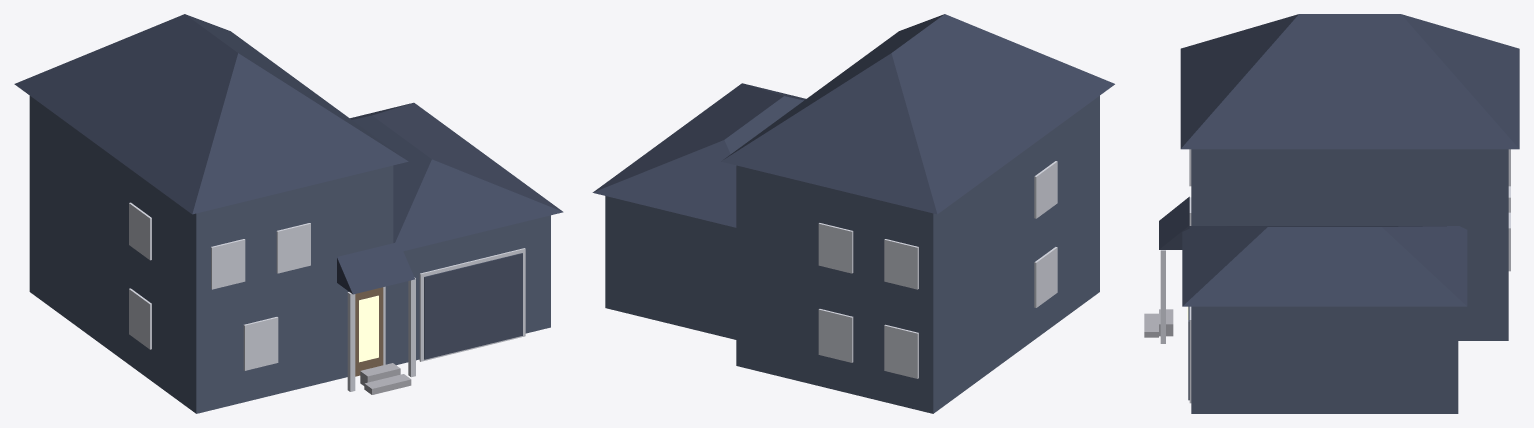
File: house-v2.glb
The picture shows the model from 3 angles, left to right: view 1: azimuth 30°, elevation 25°; view 2: azimuth 150°, elevation 25°; view 3: azimuth 270°, elevation 25°; orthographic projection. The views are drawn at different scales.
Visible parts, largest first — view 1: House_Walls, House_Roof, Garage_Roof, GarageDoor_Panel, Garage_Walls, Porch_Roof, Win_DL_Frame, Win_UL_Frame, Win_UR_Frame, GarageDoor_Frame, Door_Glass, Win_LeftD_Frame (+6 smaller); view 2: House_Walls, House_Roof, Garage_Walls, Garage_Roof, Win_BackDR_Frame, Win_BackDL_Frame, Win_BackUR_Frame, Win_BackUL_Frame, Win_LeftD_Frame, Win_LeftU_Frame; view 3: House_Roof, House_Walls, Garage_Walls, Garage_Roof, Porch_Roof, Porch_Post_R, Step_1.
Boxes of the visible parts, box(x1,y1,x2,y2) form: House_Walls: box(29, 96, 393, 413); House_Roof: box(14, 14, 408, 214); Garage_Roof: box(350, 102, 563, 251); GarageDoor_Panel: box(424, 253, 522, 359); Garage_Walls: box(393, 215, 550, 365); Porch_Roof: box(337, 242, 414, 294); Win_DL_Frame: box(243, 317, 278, 370); Win_UL_Frame: box(211, 239, 245, 289); Win_UR_Frame: box(276, 223, 310, 273); GarageDoor_Frame: box(419, 248, 525, 361); Door_Glass: box(359, 295, 378, 362); Win_LeftD_Frame: box(129, 288, 151, 349); House_Walls: box(736, 96, 1099, 413); House_Roof: box(721, 14, 1114, 214); Garage_Walls: box(605, 196, 736, 339); Garage_Roof: box(592, 83, 805, 227); Win_BackDR_Frame: box(818, 309, 853, 362); Win_BackDL_Frame: box(884, 324, 918, 378); Win_BackUR_Frame: box(818, 223, 853, 273); Win_BackUL_Frame: box(884, 239, 918, 289); Win_LeftD_Frame: box(1034, 247, 1057, 307); Win_LeftU_Frame: box(1034, 161, 1057, 218); House_Roof: box(1180, 14, 1519, 149); House_Walls: box(1191, 149, 1508, 340); Garage_Walls: box(1191, 306, 1458, 413); Garage_Roof: box(1182, 226, 1467, 306); Porch_Roof: box(1159, 196, 1189, 249); Porch_Post_R: box(1160, 250, 1165, 343); Step_1: box(1144, 313, 1158, 337).
Bounding box in the file's own units: 11.35 × 8.65 × 10.4.
